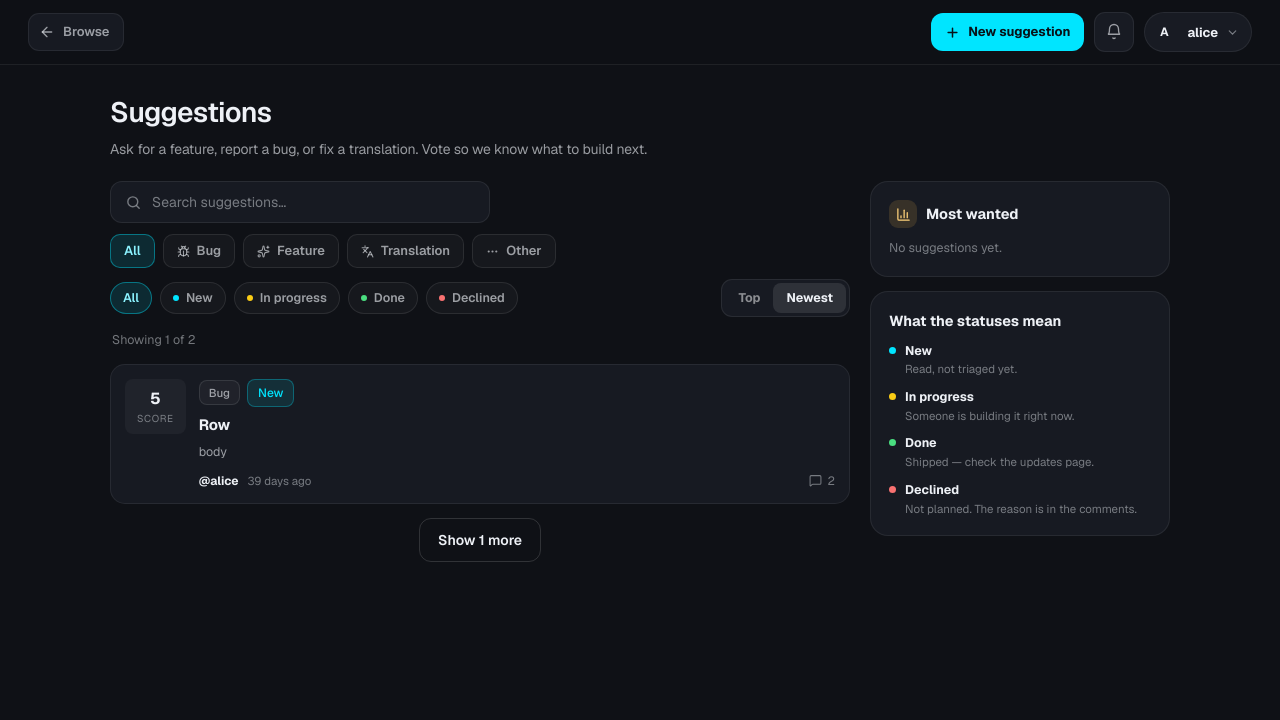
Test case: FeedbackScreen › clears a stale load-more error when the filter changes
The width and height of the screenshot is (1280, 720).
expect the text "Row" is shown: met, box x1=199 y1=415 x2=230 y2=434
Click the button "Show 1 more" at point(480, 540), box x1=419 y1=518 x2=541 y2=562
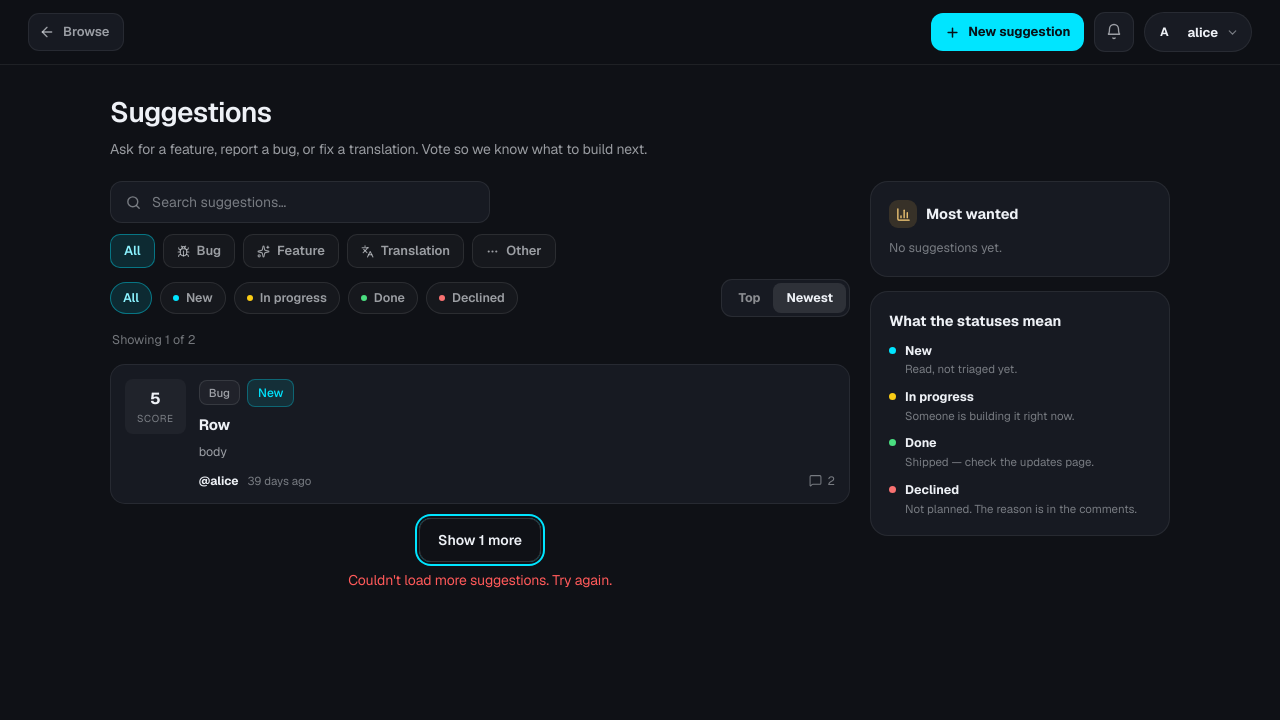
expect the text "Couldn't load more suggestions. Try again." is shown: met, box x1=348 y1=570 x2=612 y2=590
Click the button "Feature" at point(291, 251), box x1=243 y1=234 x2=339 y2=268
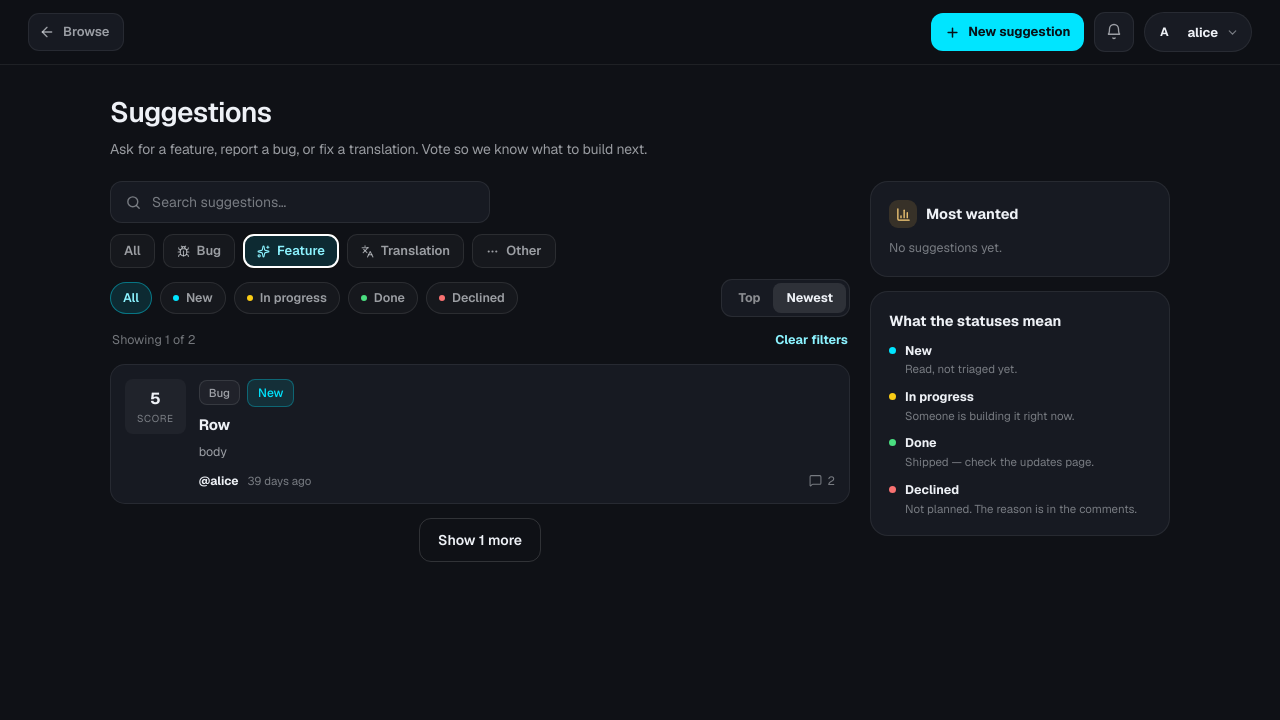
expect the text "Couldn't load more suggestions" is gone: met
